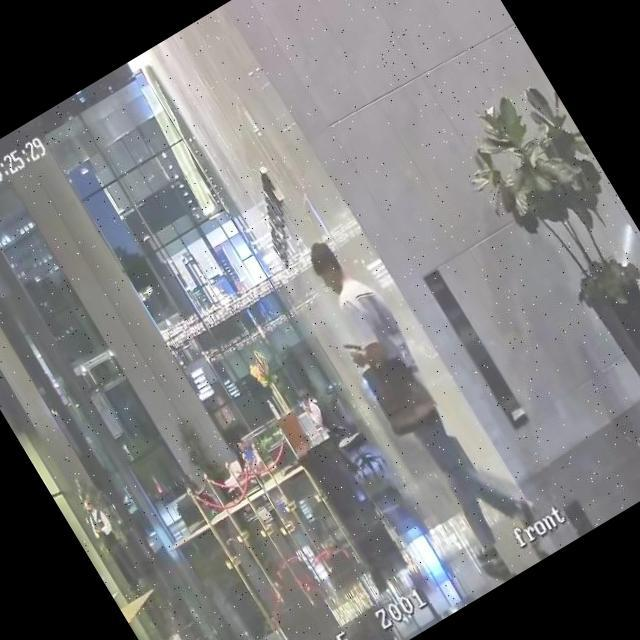person: (288, 214, 554, 582), (76, 494, 146, 591), (294, 380, 349, 450), (182, 467, 225, 519), (234, 437, 258, 468)
